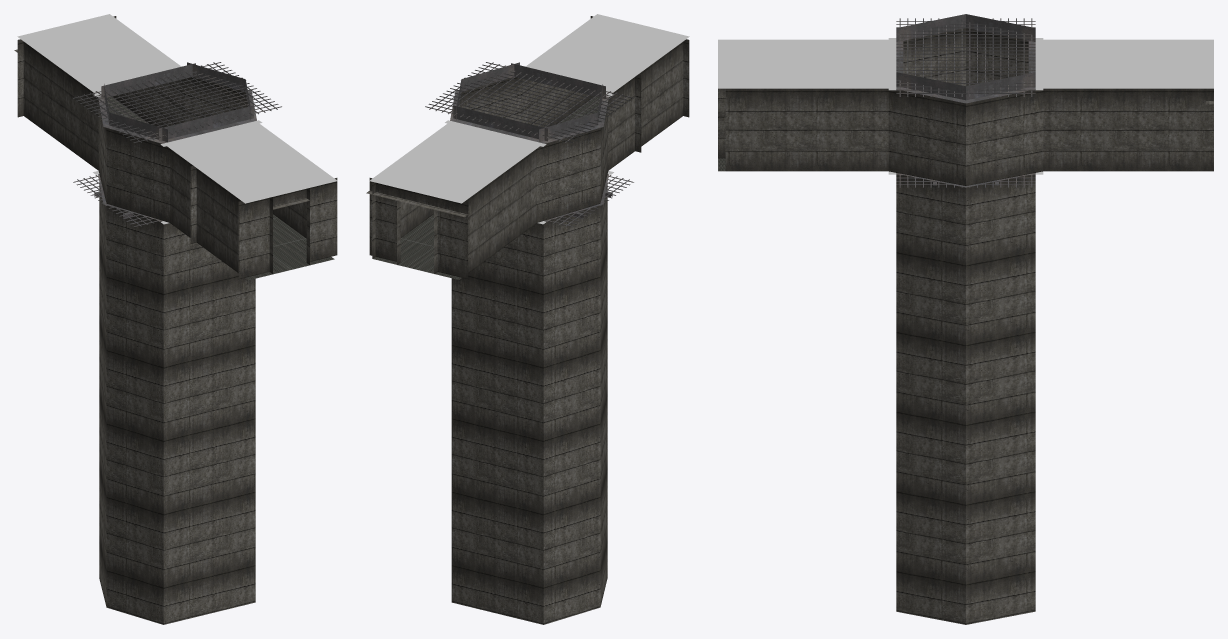
Rendered from Room2_5_HCZ.fbx.
3 renders of one model, left to right at view 1: azimuth 30°, elevation 25°; view 2: azimuth 150°, elevation 25°; view 3: azimuth 270°, elevation 25°, orthographic. The views are drawn at different scales.
Parts seen in each view (by area): view 1: concretewall, concretefloor, dirtymetal, metal3; view 2: concretewall, concretefloor, dirtymetal, metal3; view 3: concretewall, concretefloor, dirtymetal.
Boxes of the visible parts, box(x1,y1,x2,y2) form: concretewall: box(14, 16, 337, 624); concretefloor: box(17, 14, 337, 224); dirtymetal: box(73, 62, 281, 226); metal3: box(107, 97, 334, 280); concretewall: box(366, 16, 689, 624); concretefloor: box(369, 14, 689, 224); dirtymetal: box(425, 62, 633, 226); metal3: box(373, 97, 599, 279); concretewall: box(718, 28, 1213, 624); concretefloor: box(718, 38, 1213, 174); dirtymetal: box(896, 14, 1035, 187).
Bounding box in the file's own units: 7.68 × 24.48 × 20.48.
